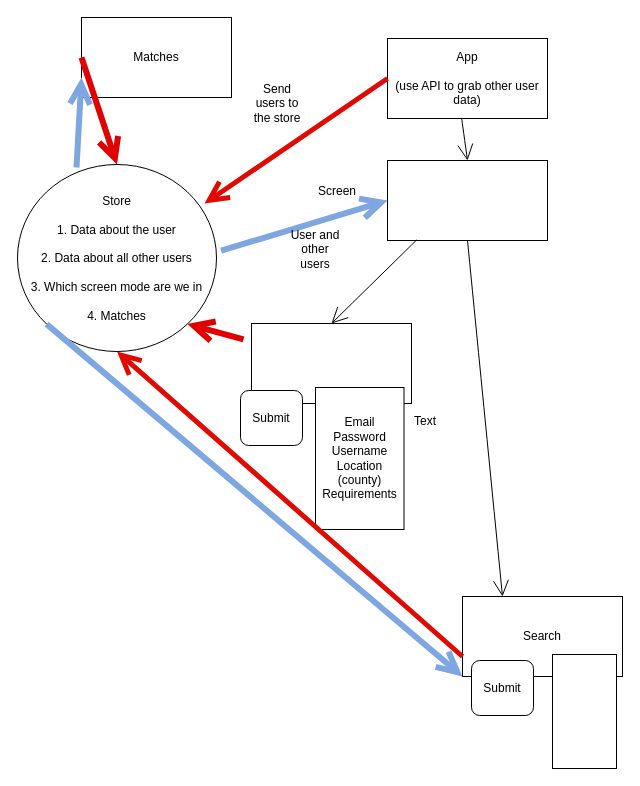
Image size: 640x786. Some labels were removed from this diagram. The shapes that lost their labels are listed below. From the top down, each one's centre as x and y in pixels, then its label:
At point (467, 200): "Interface".
At point (331, 363): "Login".
At point (584, 711): "User search option".
